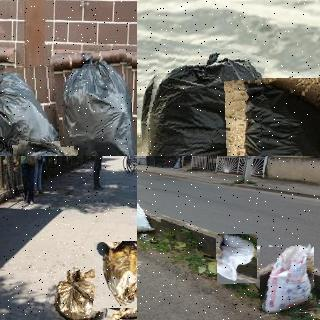Garbage: (137, 42, 256, 156), (52, 51, 134, 156), (226, 77, 320, 156), (0, 66, 59, 156), (45, 259, 111, 320), (258, 246, 316, 314), (94, 241, 137, 308), (217, 234, 257, 285), (137, 193, 162, 238)
